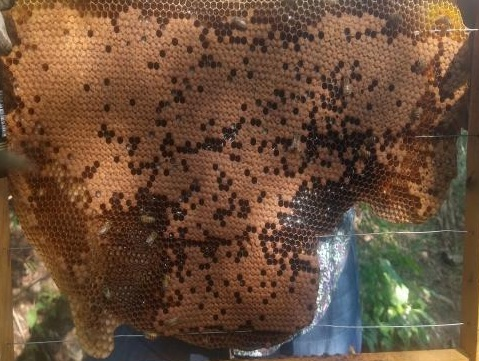cria: (6, 0, 471, 337)
